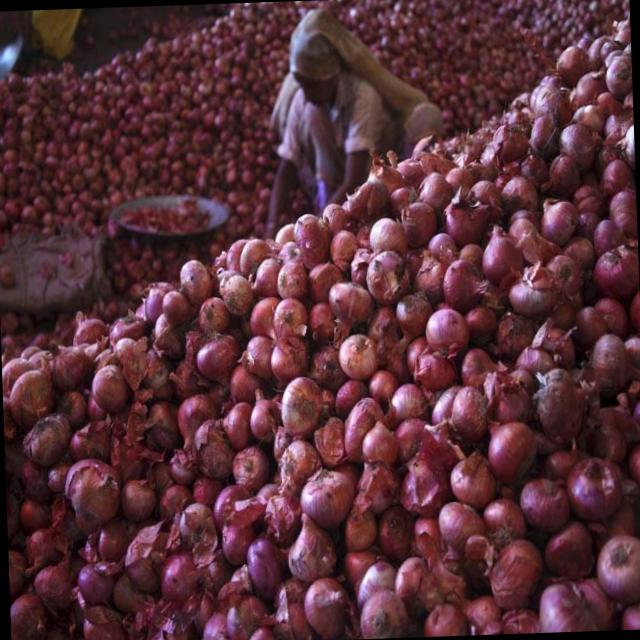onion: (299, 466, 354, 528), (274, 373, 328, 435), (476, 222, 526, 280), (484, 418, 536, 470), (196, 329, 242, 387), (328, 277, 375, 333), (421, 302, 469, 354), (91, 362, 131, 416), (338, 332, 380, 377), (536, 193, 576, 239), (178, 255, 216, 301), (366, 217, 408, 256), (250, 258, 280, 299)
